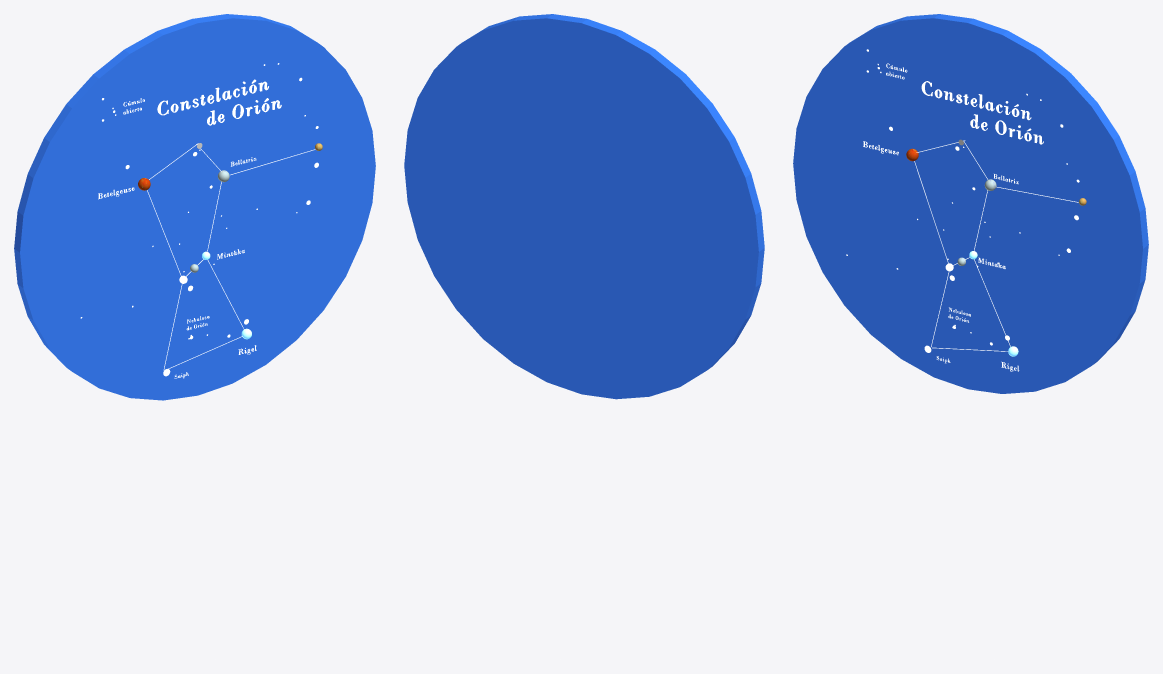
File: OrionCircular.glb
3 views of the same model, side by side, from view 1: azimuth 30°, elevation 25°; view 2: azimuth 150°, elevation 25°; view 3: azimuth 330°, elevation 25° (orthographic).
Visible parts, largest first — view 1: Círculo, Texto.002; view 2: Círculo; view 3: Círculo, Texto.002.
Part boxes in pixels (x1,y1,x2,y2): Círculo: (14,14,375,400); Texto.002: (157,79,268,115); Círculo: (404,14,764,399); Círculo: (793,14,1148,393); Texto.002: (921,81,1031,120).
Bounding box in the file's own units: 16.99 × 29.44 × 0.885.
10 materials, 4 textured.
